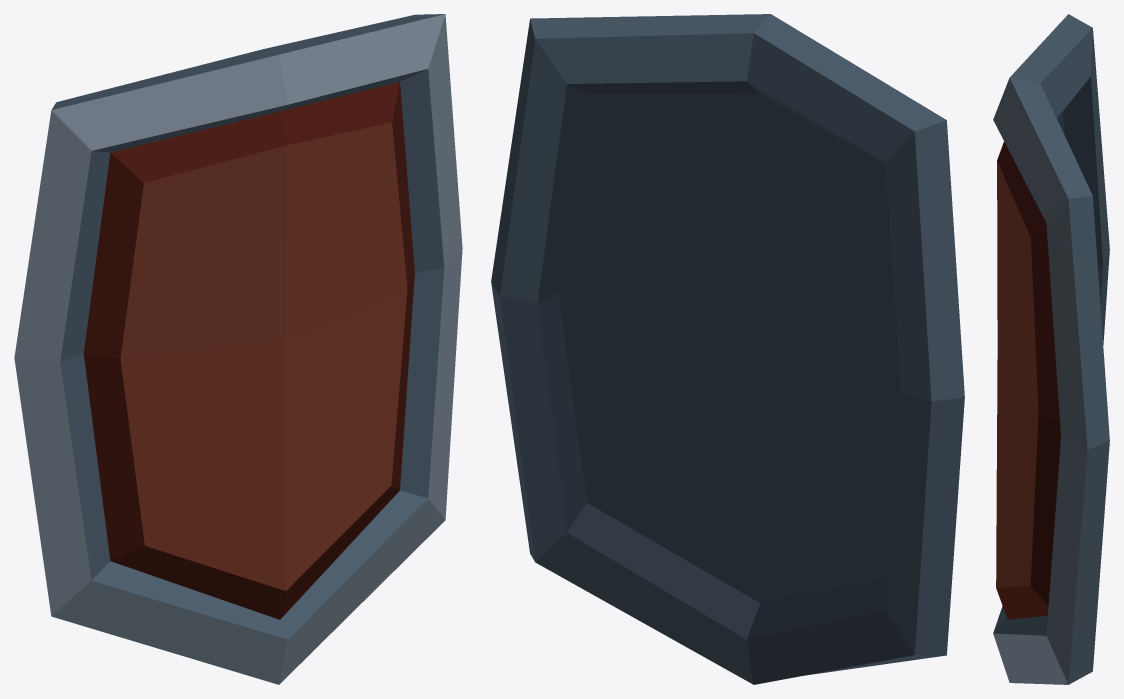
The model's file is shield.glb.
3 views of the same model, side by side, from view 1: azimuth 30°, elevation 25°; view 2: azimuth 150°, elevation 25°; view 3: azimuth 270°, elevation 25° (orthographic). The views are drawn at different scales.
Parts seen in each view (by area): view 1: Shield; view 2: Shield; view 3: Shield.
Boxes of the visible parts, <box> form: Shield: <box>14,14,462,684</box>; Shield: <box>491,14,964,684</box>; Shield: <box>993,14,1109,684</box>.
Size of the model in its own units: 1.16 by 1.56 by 0.2732.
